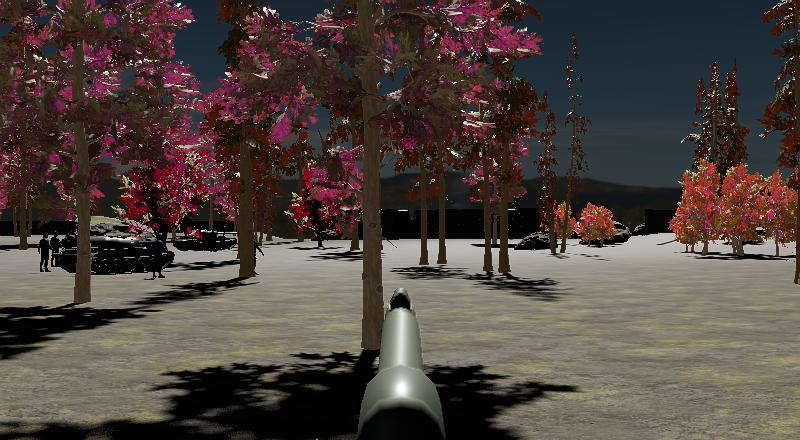Human: (36, 229, 53, 273)
Tank: (50, 231, 178, 276)
